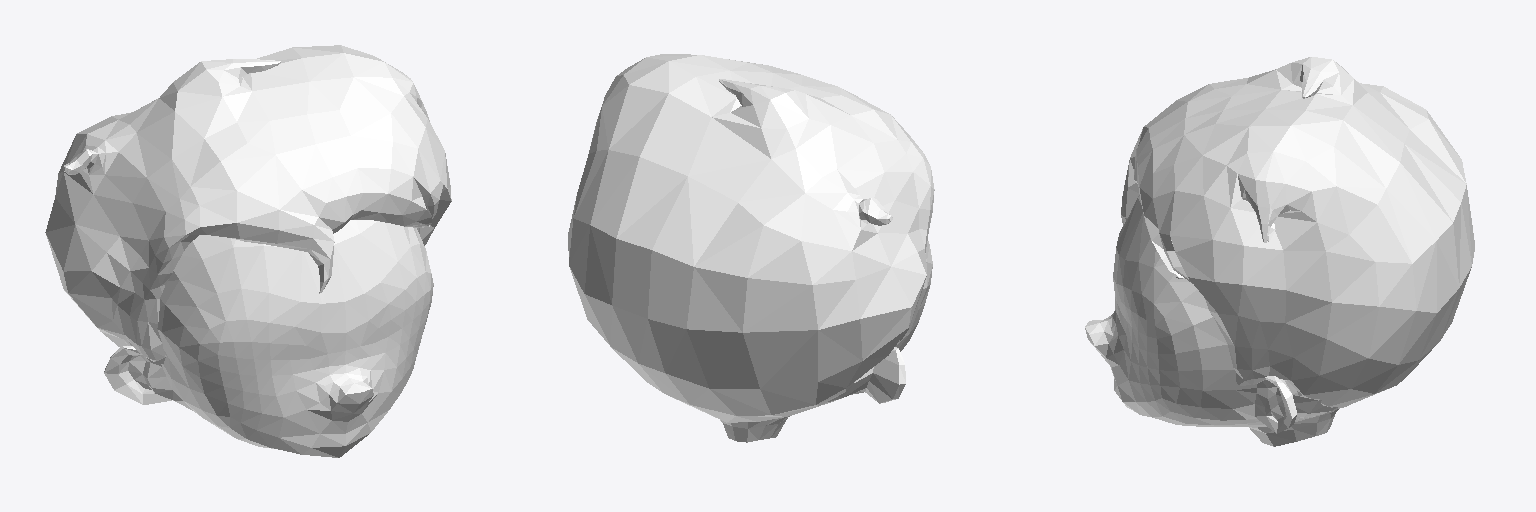
The model's file is cabeza.obj.
The picture shows the model from 3 angles: view 1: azimuth 30°, elevation 25°; view 2: azimuth 150°, elevation 25°; view 3: azimuth 270°, elevation 25°; orthographic projection.
Parts seen in each view (by area): view 1: LowPoly_Teenage_Stylish_Boy; view 2: LowPoly_Teenage_Stylish_Boy; view 3: LowPoly_Teenage_Stylish_Boy.
Part boxes in pixels (x1,y1,x2,y2): LowPoly_Teenage_Stylish_Boy: (45, 45, 451, 457); LowPoly_Teenage_Stylish_Boy: (568, 54, 934, 442); LowPoly_Teenage_Stylish_Boy: (1085, 57, 1474, 446).
Size of the model in its own units: 1.16 by 1.21 by 1.16.